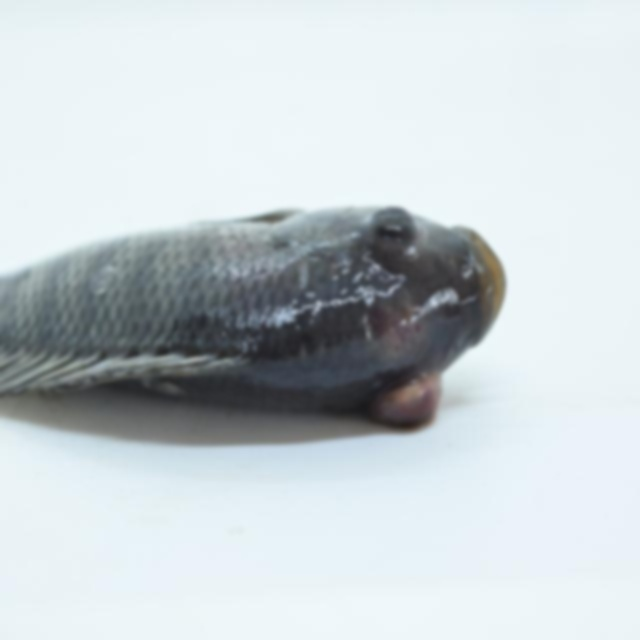streptococcus Disease: (0, 203, 507, 433)
